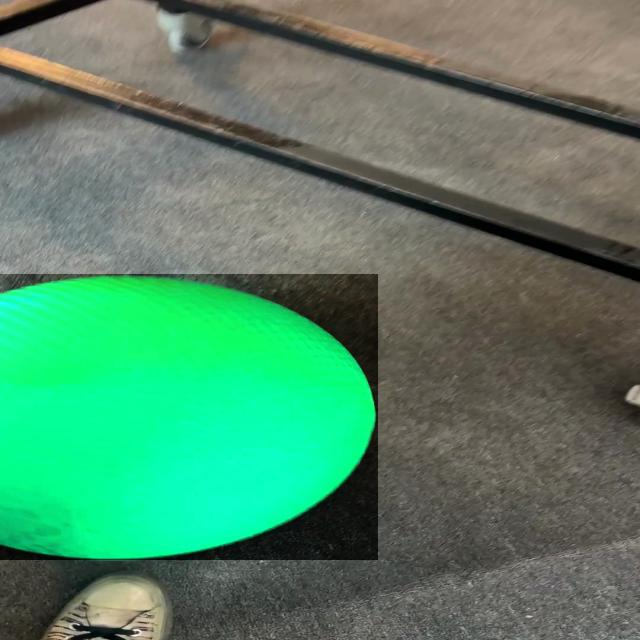Algae: (0, 274, 378, 560)
